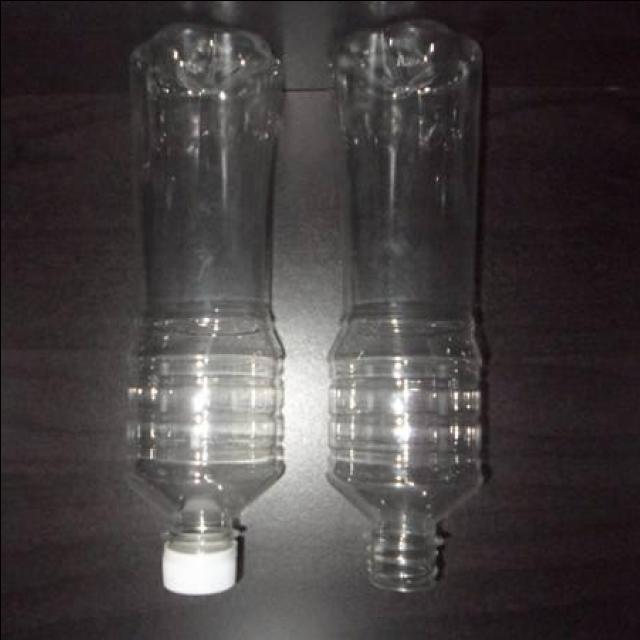-Recyclables - plastic bottle-: (124, 21, 285, 596), (324, 13, 482, 595)
